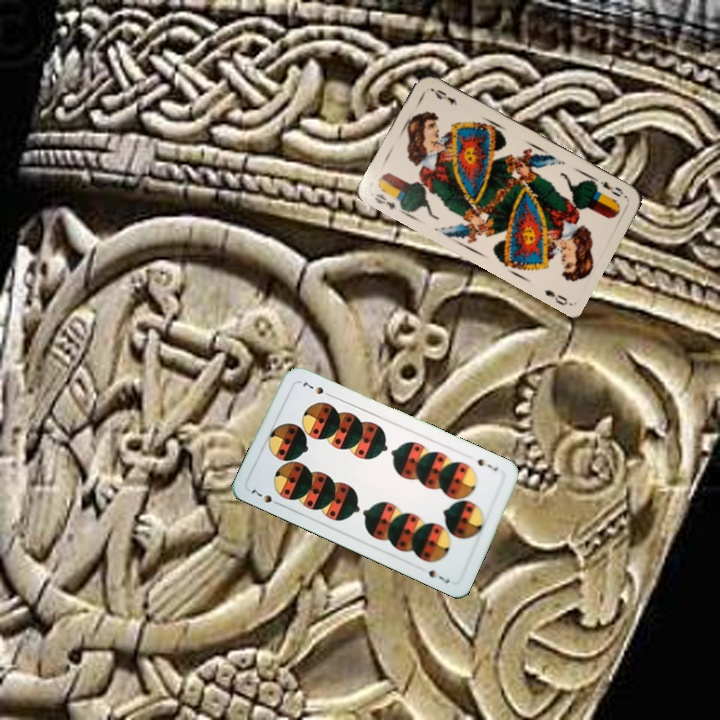EO: (596, 177, 626, 200), (370, 190, 398, 212)
S7: (247, 485, 284, 509), (473, 455, 501, 474)
